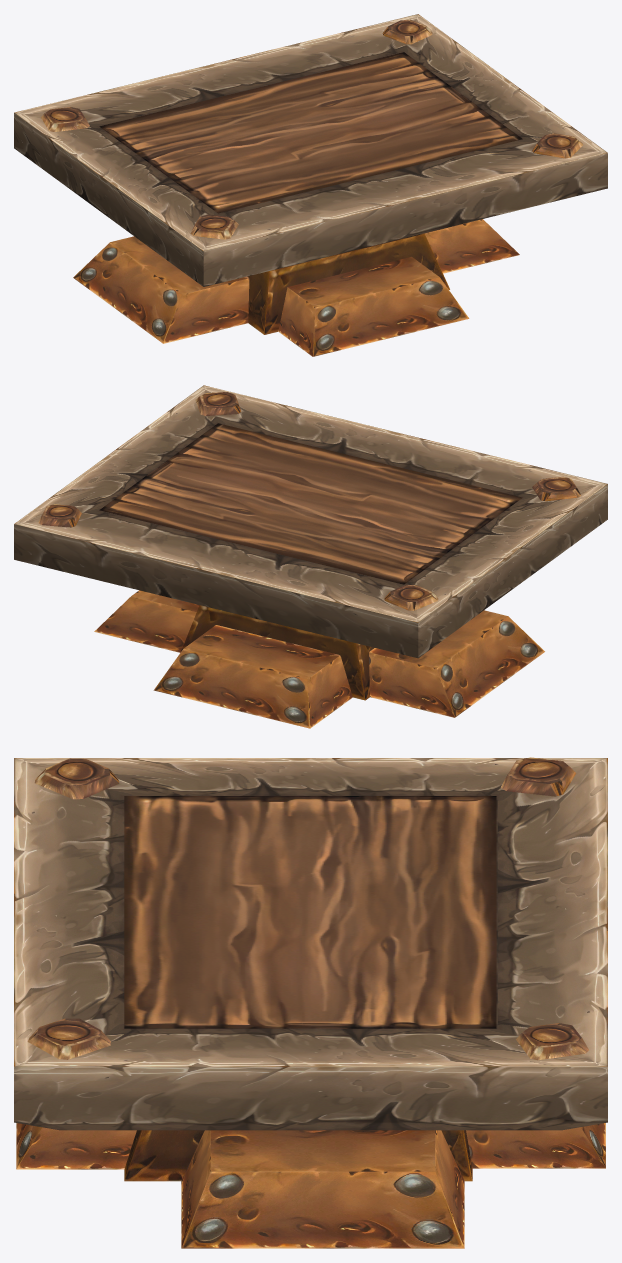
The model's file is dwarventablesmall.obj.
3 views of the same model, one above another, from view 1: azimuth 30°, elevation 25°; view 2: azimuth 150°, elevation 25°; view 3: azimuth 270°, elevation 25° (orthographic). The views are drawn at different scales.
Parts seen in each view (by area): view 1: dwarventablesmall; view 2: dwarventablesmall; view 3: dwarventablesmall.
Part boxes in pixels (x1,y1,x2,y2): dwarventablesmall: (14, 14, 607, 356); dwarventablesmall: (14, 385, 607, 728); dwarventablesmall: (14, 757, 607, 1248).
Bounding box in the file's own units: 3.05 × 1 × 2.48.
Materials: 1 (1 with a texture image).
